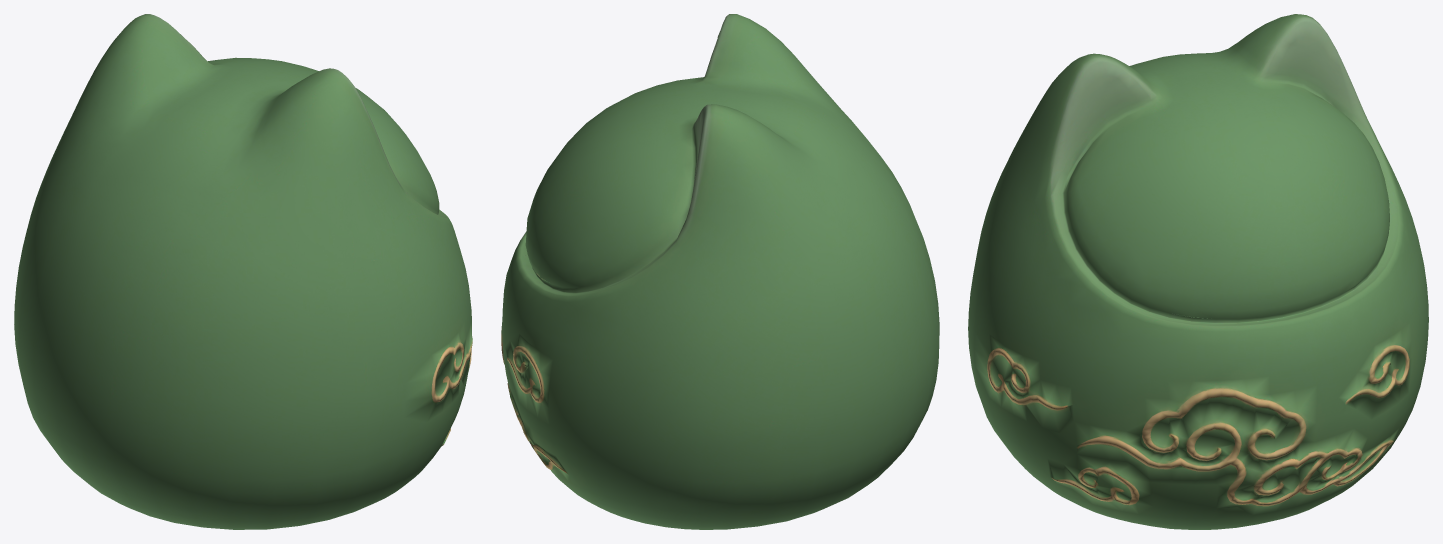
File: immortal-king-seal.glb
The picture shows the model from 3 angles, left to right: view 1: azimuth 30°, elevation 25°; view 2: azimuth 150°, elevation 25°; view 3: azimuth 270°, elevation 25°; orthographic projection. The views are drawn at different scales.
Parts seen in each view (by area): view 1: tripo_node_37074c5d-7ba7-4daf-af23-79234f950d67; view 2: tripo_node_37074c5d-7ba7-4daf-af23-79234f950d67; view 3: tripo_node_37074c5d-7ba7-4daf-af23-79234f950d67.
Part boxes in pixels (x1,y1,x2,y2): tripo_node_37074c5d-7ba7-4daf-af23-79234f950d67: (14,14,472,529); tripo_node_37074c5d-7ba7-4daf-af23-79234f950d67: (501,14,939,529); tripo_node_37074c5d-7ba7-4daf-af23-79234f950d67: (968,14,1428,529).
Size of the model in its own units: 0.9179 by 0.9995 by 0.93.
Materials: 1 (1 with a texture image).
